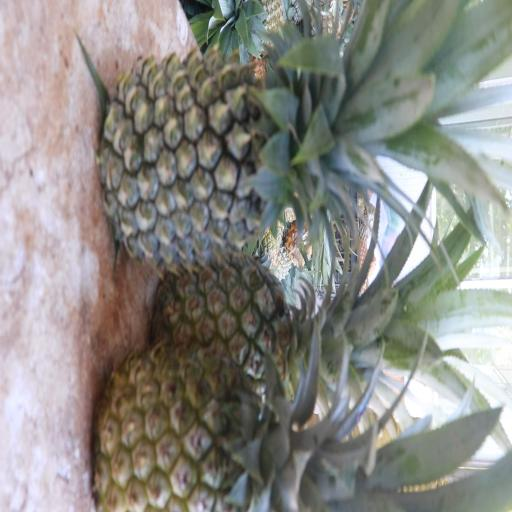------------------------------: (89, 343, 433, 512), (150, 243, 388, 406)
